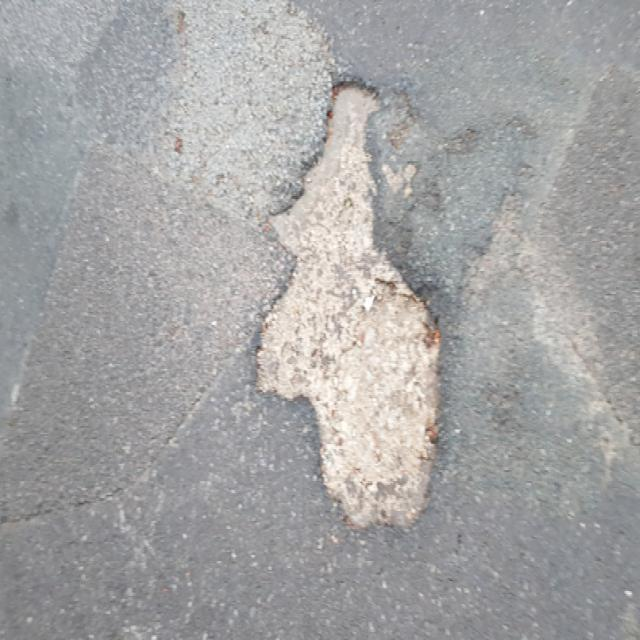pothole: (254, 69, 446, 538)
